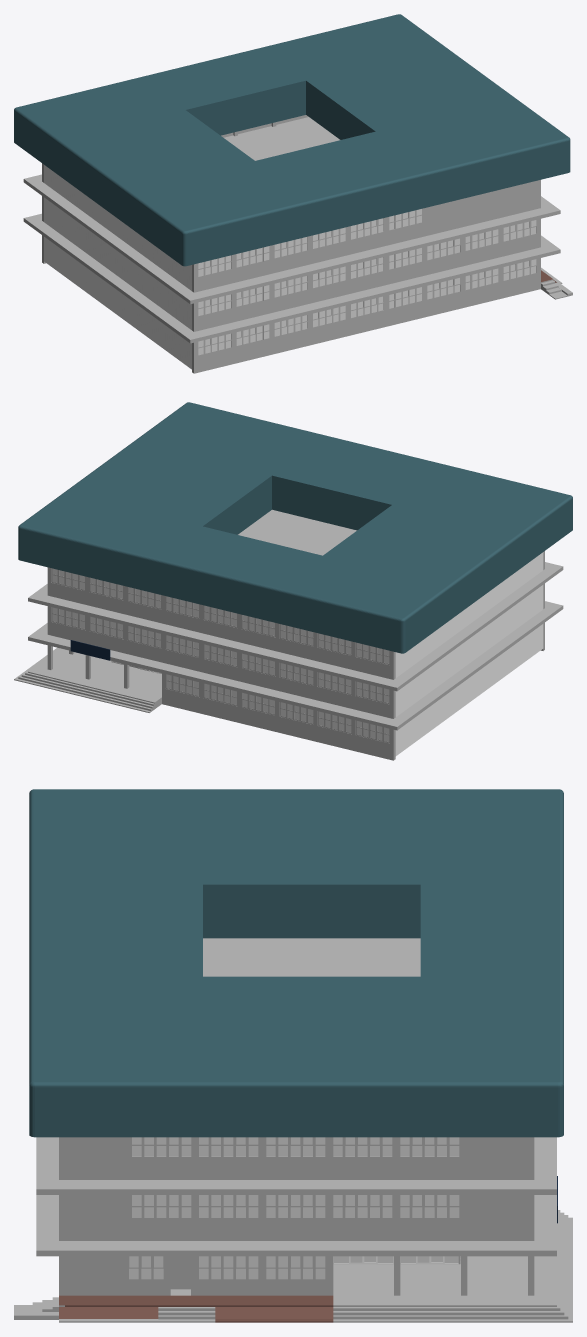
The picture shows the model from 3 angles, top to bottom: view 1: azimuth 30°, elevation 25°; view 2: azimuth 150°, elevation 25°; view 3: azimuth 270°, elevation 25°; orthographic projection. The views are drawn at different scales.
Visible parts, largest first — view 1: Cube.015, Cube.001, Cube.007, Cube.005, floor2, Cube, window.015, window.006, window.008, window.009, window.010, window (+18 smaller); view 2: Cube.015, wall, Cube.007, Cube.005, floor2, floor1, Cube.011, Cube.004, window.039, window.042, window.050, window.051 (+21 smaller); view 3: Cube.015, Cube.001, Cube.005, floor1, floor2, Cube.004, Cube.006, Cube.013, Cube.014, window.025, window.035, window.026 (+12 smaller).
Part boxes in pixels (<box>): Cube.015: <box>14,14,570,266</box>; Cube.001: <box>197,181,537,372</box>; Cube.007: <box>44,165,191,369</box>; Cube.005: <box>23,117,560,304</box>; floor2: <box>23,213,560,343</box>; Cube: <box>192,180,540,373</box>; window.015: <box>273,275,308,298</box>; window.006: <box>273,314,308,337</box>; window.008: <box>197,333,232,356</box>; window.009: <box>502,220,537,242</box>; window.010: <box>464,229,499,251</box>; window: <box>502,259,537,281</box>; Cube.015: <box>18,402,572,653</box>; wall: <box>51,582,389,759</box>; Cube.007: <box>395,552,543,756</box>; Cube.005: <box>28,509,563,691</box>; floor2: <box>28,601,563,730</box>; floor1: <box>28,648,161,703</box>; Cube.011: <box>85,576,395,760</box>; Cube.004: <box>14,647,161,712</box>; window.039: <box>355,720,389,743</box>; window.042: <box>241,692,275,715</box>; window.050: <box>89,616,123,639</box>; window.051: <box>127,625,161,648</box>; Cube.015: <box>29,789,563,1137</box>; Cube.001: <box>65,1137,527,1295</box>; Cube.005: <box>36,938,556,1194</box>; floor1: <box>59,1256,556,1306</box>; floor2: <box>36,1195,556,1256</box>; Cube.004: <box>333,1210,572,1322</box>; Cube.006: <box>193,1137,534,1295</box>; Cube.013: <box>215,1307,333,1322</box>; Cube.014: <box>59,1307,158,1322</box>; window.025: <box>130,1195,192,1219</box>; window.035: <box>197,1256,259,1280</box>; window.026: <box>197,1195,259,1219</box>.
Size of the model in its own units: 45.56 by 17.15 by 36.37.
